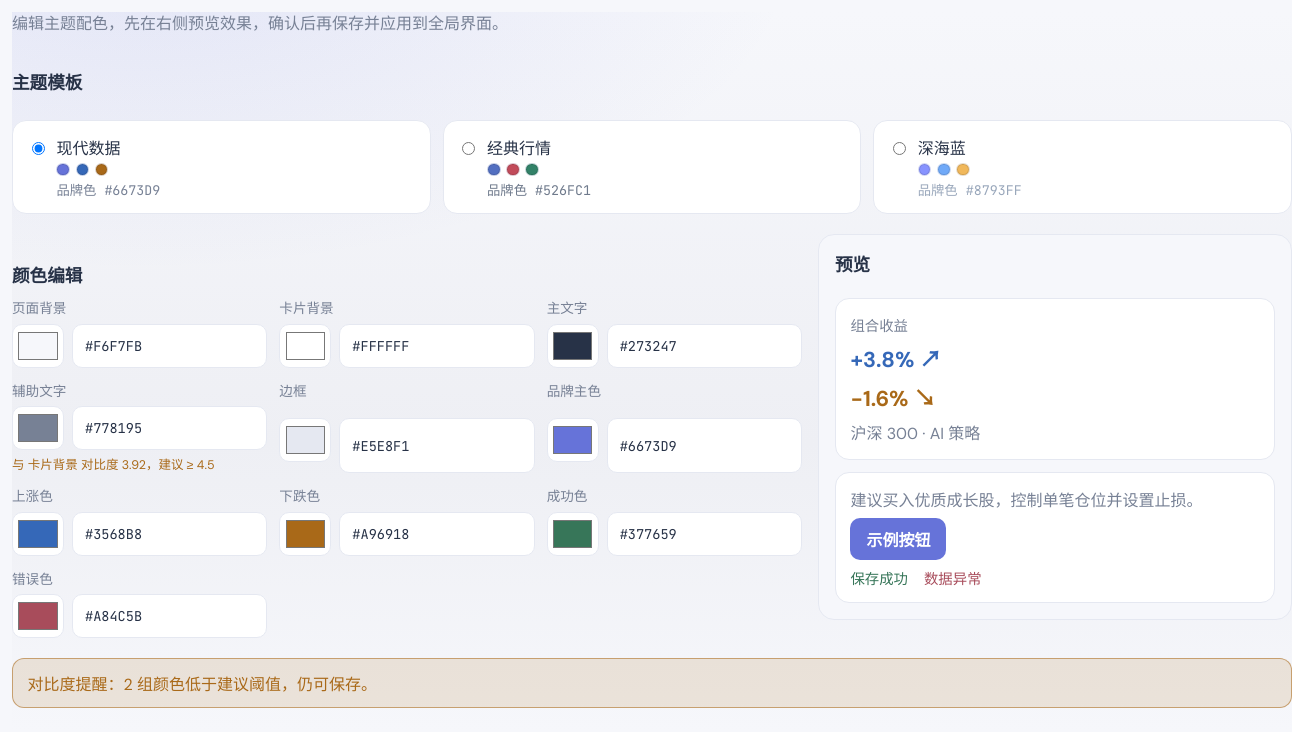
Scenario: 非法十六进制值阻止保存，恢复按钮恢复当前模板
Step 1. Clear the field named "品牌主色（十六进制）" → (704, 446), box [607, 418, 802, 473]
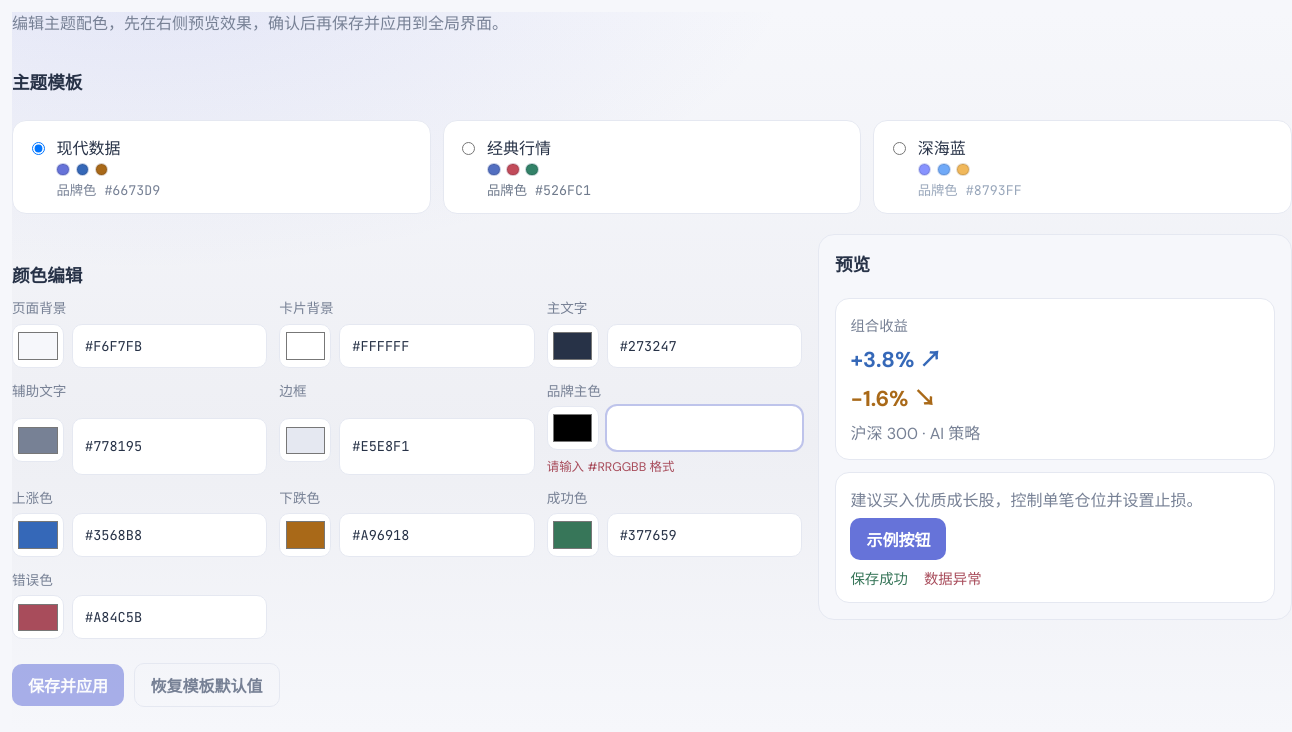
Step 2. Type "blue" into the field named "品牌主色（十六进制）" → (704, 428), box [607, 406, 802, 450]
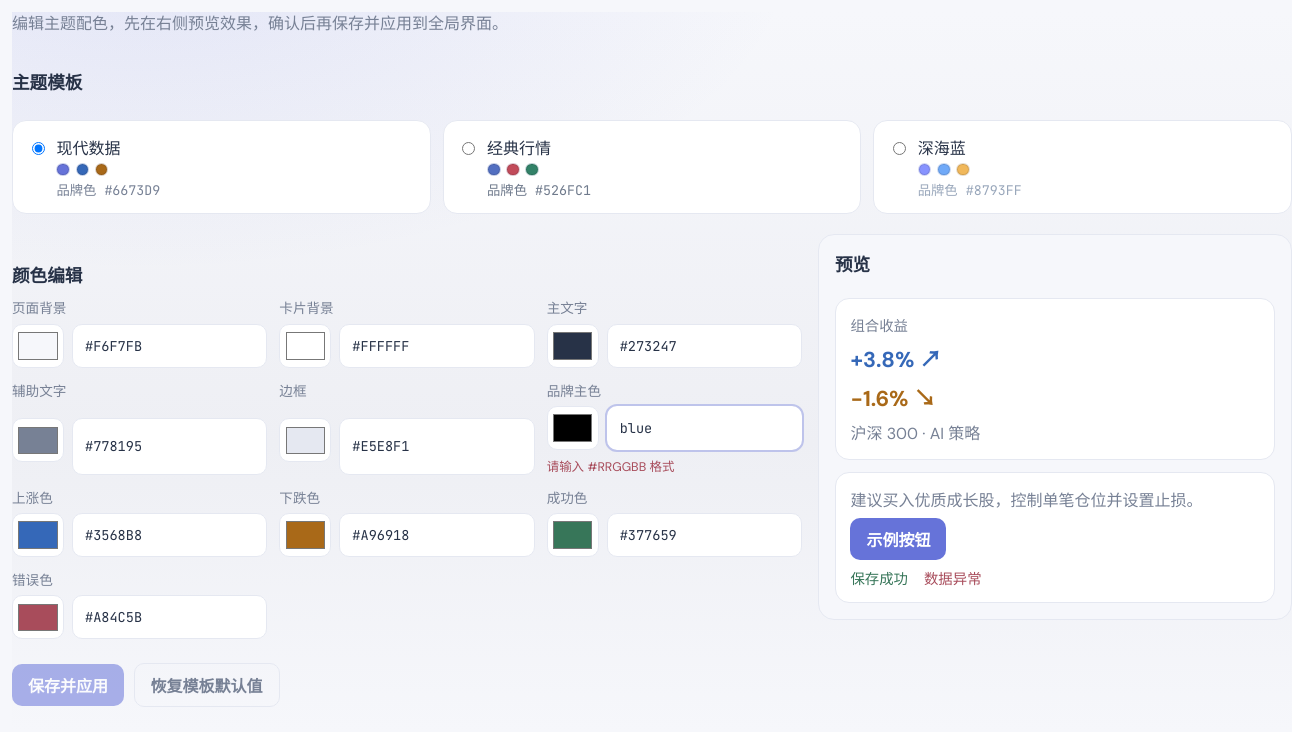
Expected: the message reads "请输入 #RRGGBB 格式", [547, 458, 674, 474]
Expected: the button "保存并应用" is disabled, [12, 664, 124, 706]
Step 3. Click the button "恢复模板默认值" → (207, 685), box [134, 663, 280, 707]
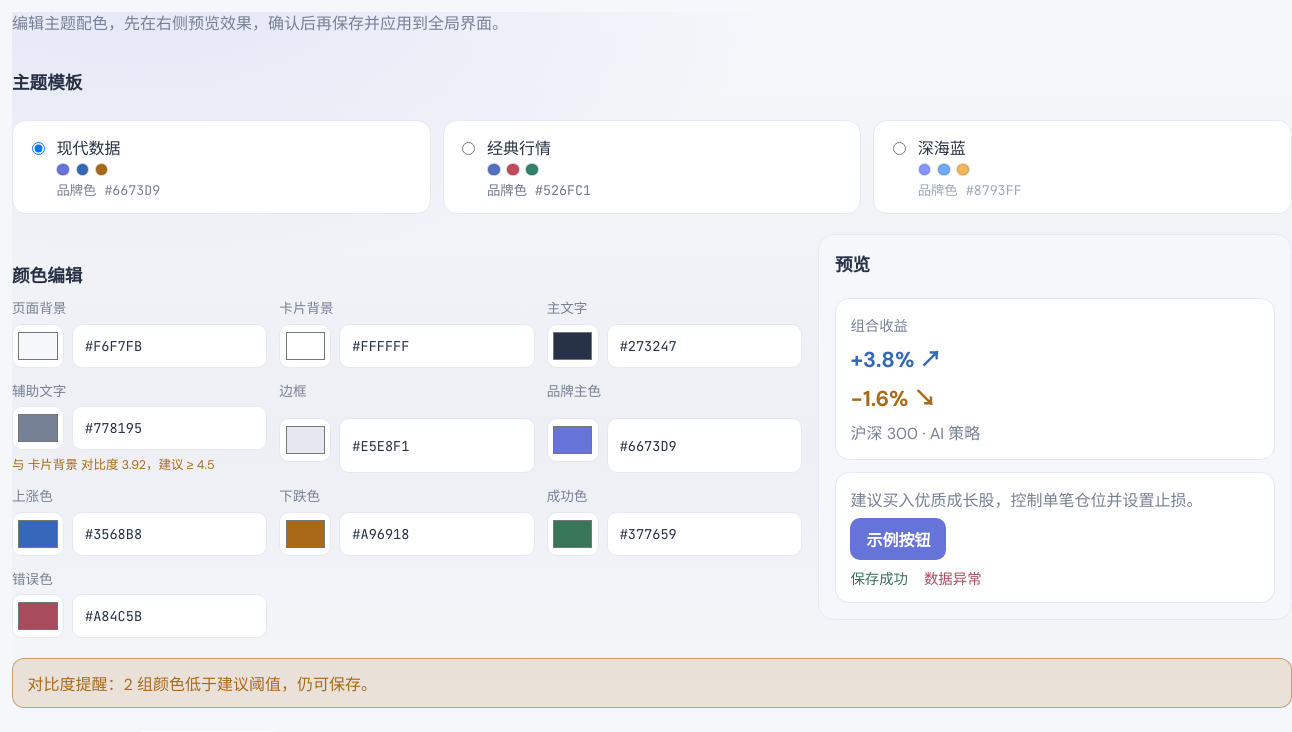
Expected: the field named "品牌主色（十六进制）" holds "#6673D9", [607, 418, 802, 473]
